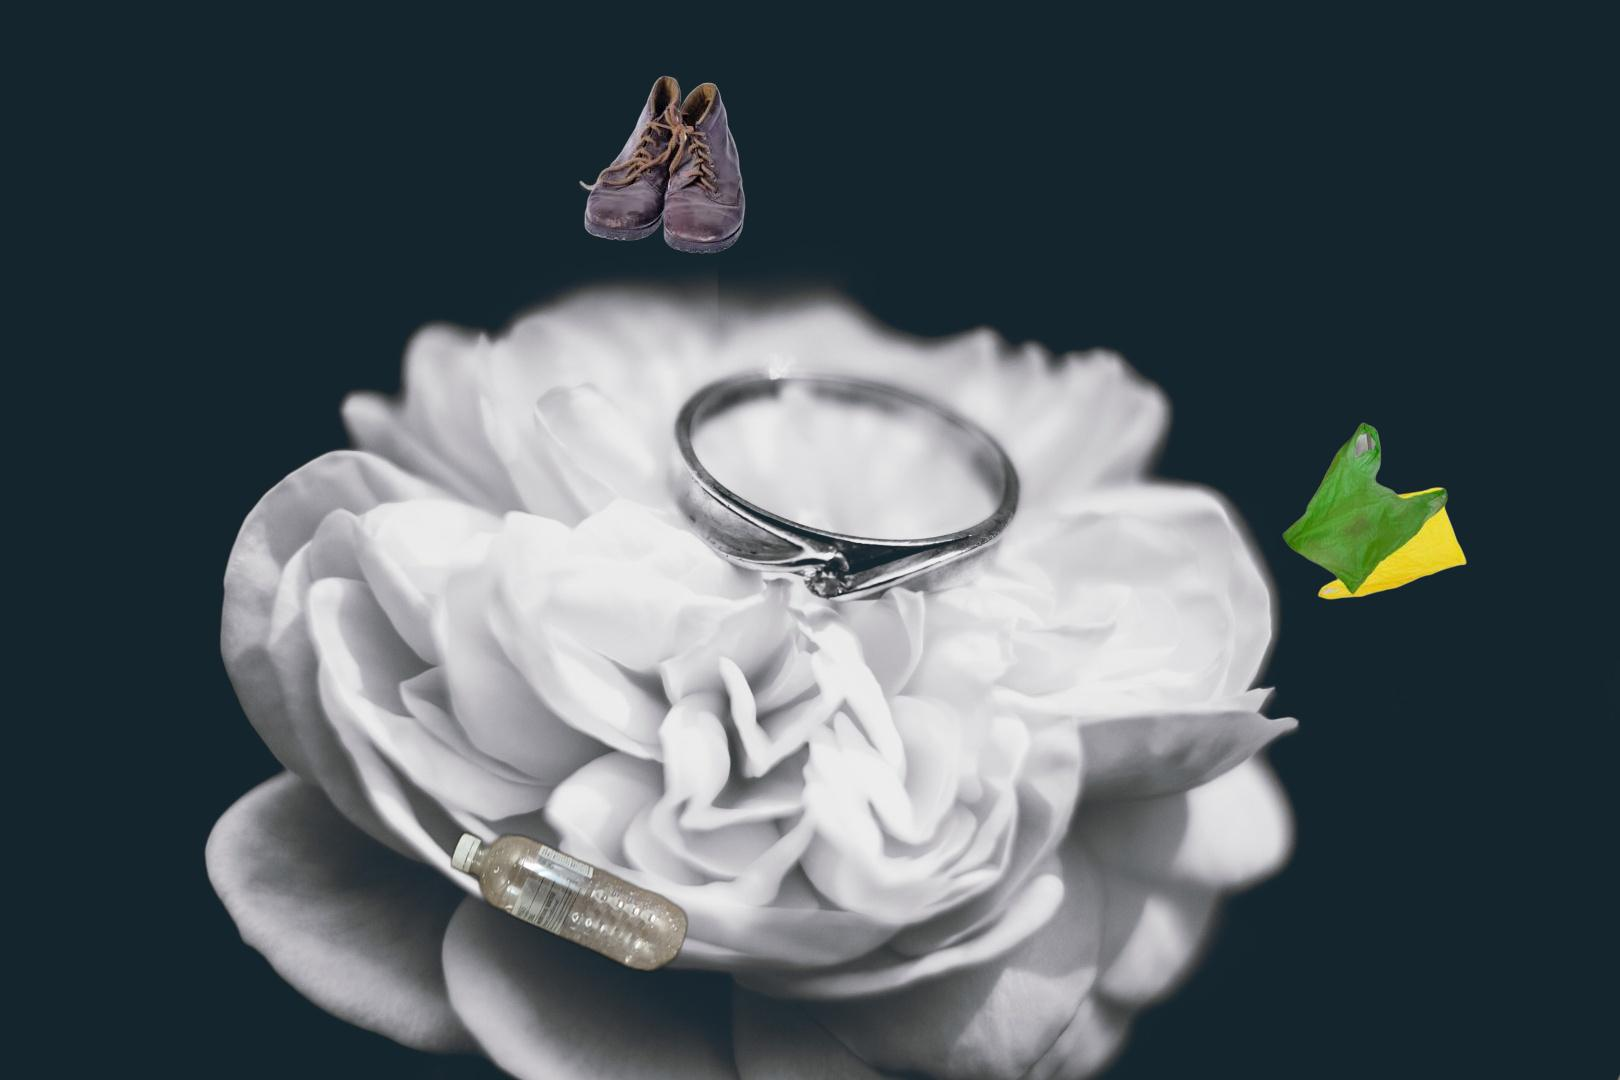plastic-bag: (1281, 419, 1469, 603)
plastic-bottles: (446, 826, 691, 978), (1602, 1066, 1620, 1080)
shoes: (576, 70, 749, 257)
